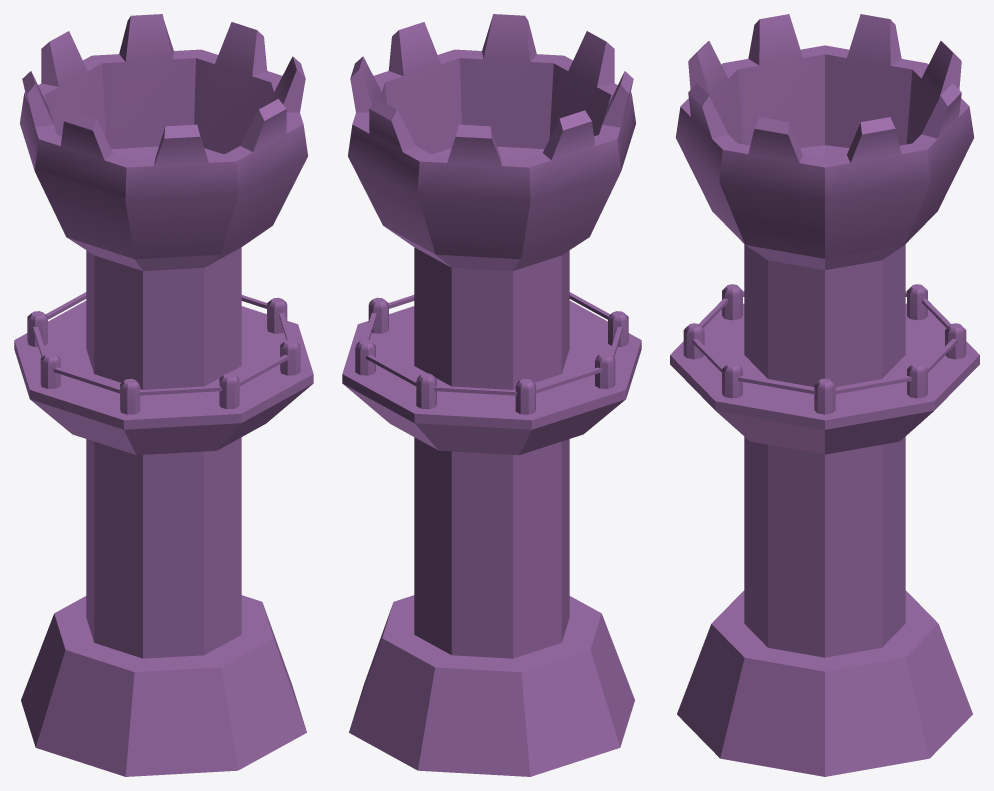
The model's file is TowerBlockoutExportV2.fbx.
3 views of the same model, side by side, from view 1: azimuth 30°, elevation 25°; view 2: azimuth 150°, elevation 25°; view 3: azimuth 270°, elevation 25° (orthographic).
Parts seen in each view (by area): view 1: CYLINDER3, CYLINDER2, CYLINDER4, CYLINDER5, CYLINDER14, CYLINDER10, CYLINDER18, CYLINDER17, CYLINDER16, CYLINDER12, CYLINDER13; view 2: CYLINDER3, CYLINDER2, CYLINDER4, CYLINDER5, CYLINDER14, CYLINDER13, CYLINDER11, CYLINDER17, CYLINDER15, CYLINDER12, CYLINDER10; view 3: CYLINDER3, CYLINDER2, CYLINDER4, CYLINDER5, CYLINDER14, CYLINDER12, CYLINDER15, CYLINDER16, CYLINDER10, CYLINDER13, CYLINDER11, CYLINDER18.
Part boxes in pixels (<box>): CYLINDER3: <box>20,14,307,271</box>; CYLINDER2: <box>86,247,241,658</box>; CYLINDER4: <box>21,595,306,776</box>; CYLINDER5: <box>14,301,313,455</box>; CYLINDER14: <box>33,292,292,395</box>; CYLINDER10: <box>120,379,140,414</box>; CYLINDER18: <box>219,373,239,409</box>; CYLINDER17: <box>40,353,60,388</box>; CYLINDER16: <box>280,339,300,375</box>; CYLINDER12: <box>267,297,287,333</box>; CYLINDER13: <box>27,311,47,346</box>; CYLINDER3: <box>348,14,635,271</box>; CYLINDER2: <box>414,247,569,658</box>; CYLINDER4: <box>349,595,634,776</box>; CYLINDER5: <box>342,301,641,455</box>; CYLINDER14: <box>363,292,622,395</box>; CYLINDER13: <box>515,378,535,414</box>; CYLINDER11: <box>416,373,436,409</box>; CYLINDER17: <box>595,353,615,388</box>; CYLINDER15: <box>355,339,375,375</box>; CYLINDER12: <box>368,297,388,333</box>; CYLINDER10: <box>608,311,628,346</box>; CYLINDER3: <box>675,14,974,270</box>; CYLINDER2: <box>744,244,905,657</box>; CYLINDER4: <box>677,590,972,776</box>; CYLINDER5: <box>670,303,979,454</box>; CYLINDER14: <box>692,291,957,394</box>; CYLINDER12: <box>814,378,835,414</box>; CYLINDER15: <box>907,362,927,398</box>; CYLINDER16: <box>722,362,742,398</box>; CYLINDER10: <box>722,284,742,320</box>; CYLINDER13: <box>907,284,927,320</box>; CYLINDER11: <box>945,323,966,359</box>; CYLINDER18: <box>683,323,704,359</box>.
Bounding box in the file's own units: 2.15 × 4.95 × 2.15.
